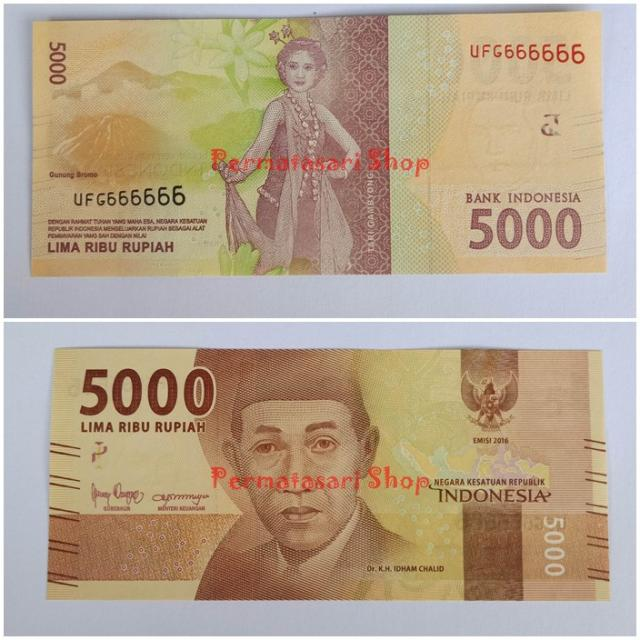lima ribu rupiah: (31, 12, 606, 279), (45, 349, 608, 601)
